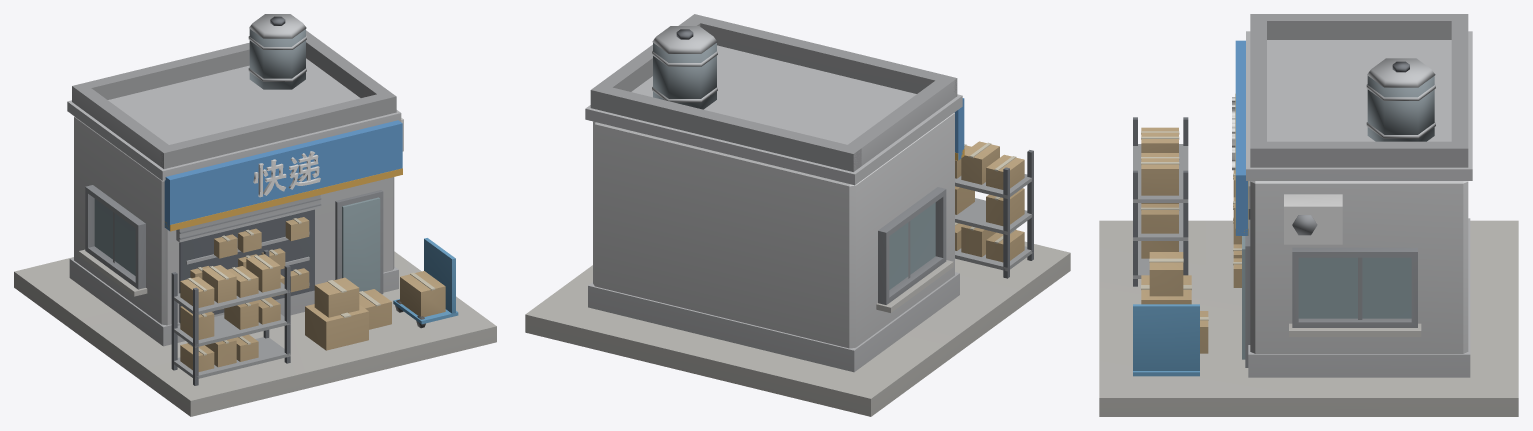
Rendered from parcel.glb.
3 renders of one model, left to right at view 1: azimuth 30°, elevation 25°; view 2: azimuth 150°, elevation 25°; view 3: azimuth 270°, elevation 25°, orthographic. The views are drawn at different scales.
Visible parts, largest first — view 1: parcel; view 2: parcel; view 3: parcel.
Part boxes in pixels (box(x1,y1,x2,y2)): parcel: box(14, 14, 496, 416); parcel: box(525, 14, 1070, 416); parcel: box(1099, 14, 1518, 416).
Size of the model in its own units: 1 by 0.787 by 1.
